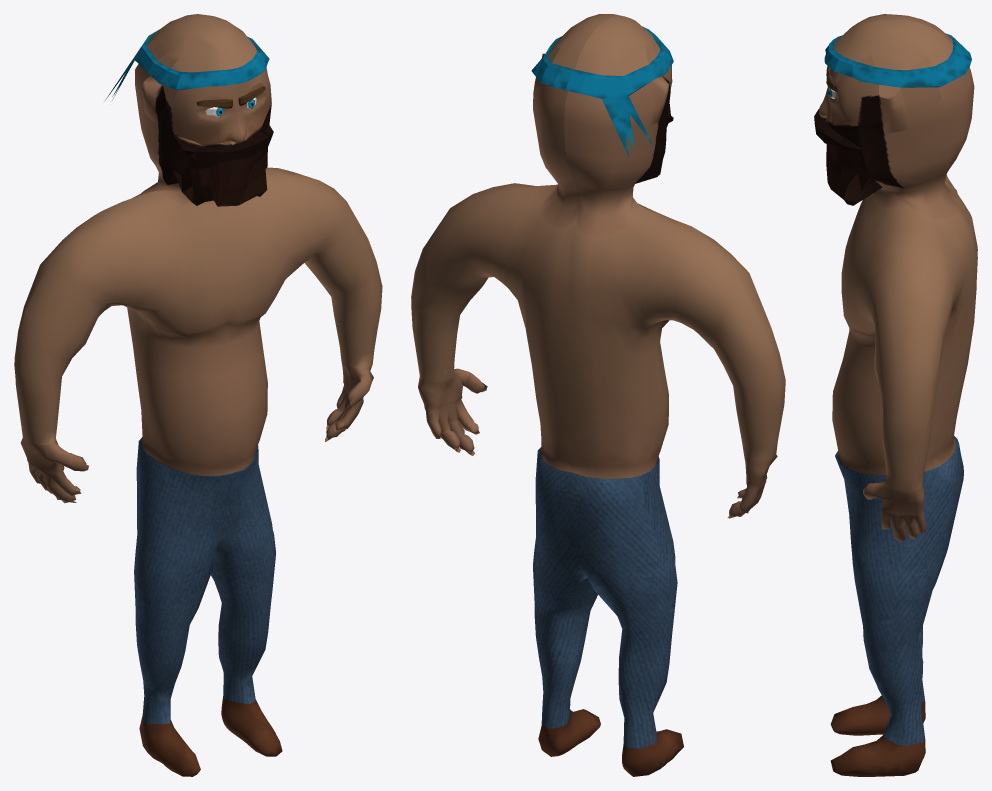
File: giantBellringer_lowpoly_01_jf.fbx
The picture shows the model from 3 angles, left to right: view 1: azimuth 30°, elevation 25°; view 2: azimuth 150°, elevation 25°; view 3: azimuth 270°, elevation 25°; orthographic projection.
Parts seen in each view (by area): view 1: Bellringer:polySurface14; view 2: Bellringer:polySurface14; view 3: Bellringer:polySurface14.
Part boxes in pixels (bbox=[...]): Bellringer:polySurface14: bbox=[14, 14, 382, 776]; Bellringer:polySurface14: bbox=[411, 14, 785, 776]; Bellringer:polySurface14: bbox=[814, 14, 977, 776].
Size of the model in its own units: 2.1 by 4.04 by 0.8172.
